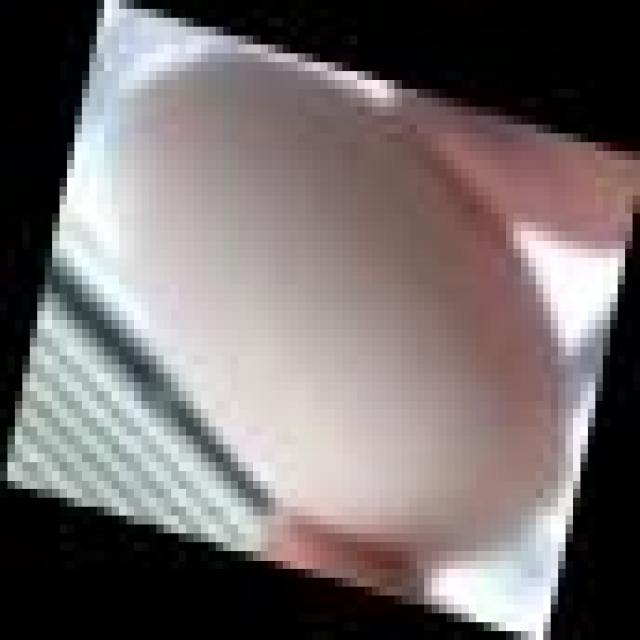Egg: (49, 38, 599, 561)
